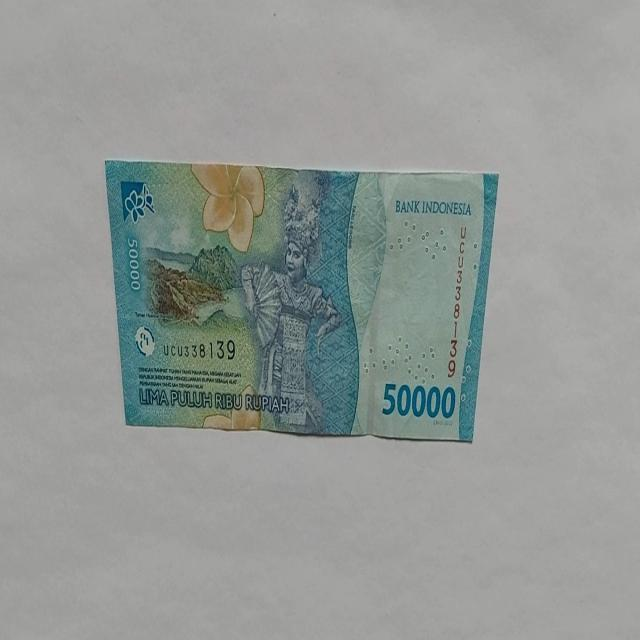lima puluh ribu rupiah: (104, 160, 499, 442)
